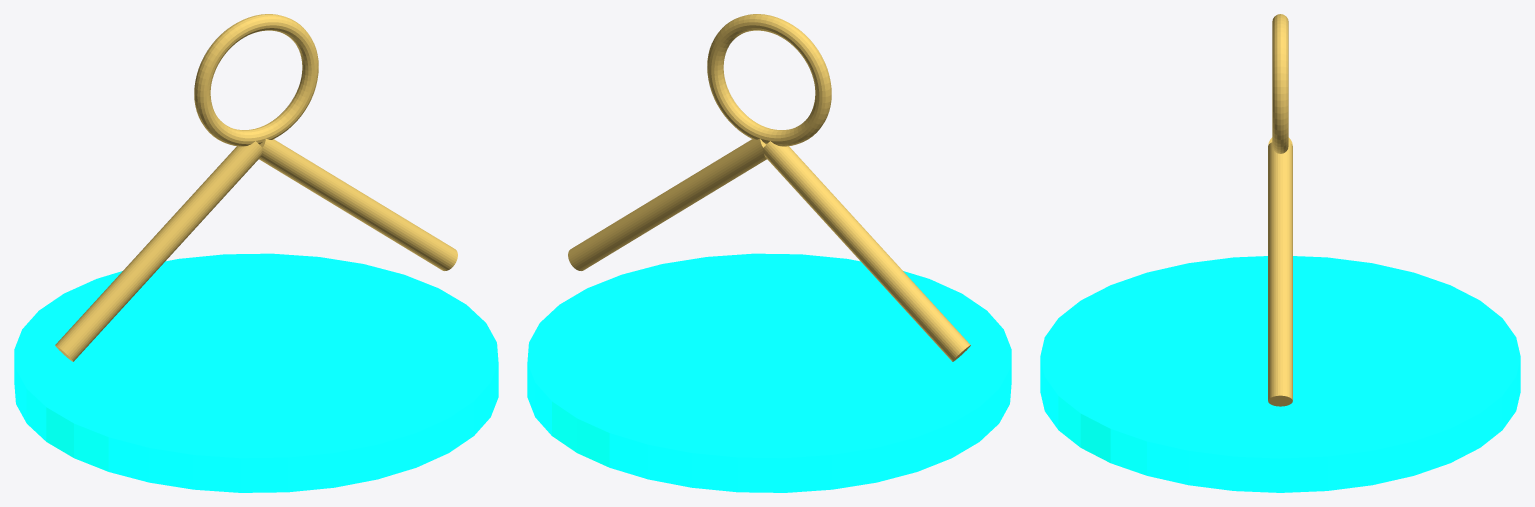
File: fashion_hanger.glb
The picture shows the model from 3 angles, left to right: view 1: azimuth 30°, elevation 25°; view 2: azimuth 150°, elevation 25°; view 3: azimuth 270°, elevation 25°; orthographic projection.
Visible parts, largest first — view 1: 06_17_Popular_Fashion_Hanger_ROOT_base, 06_17_Popular_Fashion_Hanger_part_01, 06_17_Popular_Fashion_Hanger_part_03, 06_17_Popular_Fashion_Hanger_part_02; view 2: 06_17_Popular_Fashion_Hanger_ROOT_base, 06_17_Popular_Fashion_Hanger_part_01, 06_17_Popular_Fashion_Hanger_part_03, 06_17_Popular_Fashion_Hanger_part_02; view 3: 06_17_Popular_Fashion_Hanger_ROOT_base, 06_17_Popular_Fashion_Hanger_part_02, 06_17_Popular_Fashion_Hanger_part_03.
Boxes of the visible parts, x1,y1,x2,y2 form: 06_17_Popular_Fashion_Hanger_ROOT_base: (14,253,498,492); 06_17_Popular_Fashion_Hanger_part_01: (55,141,262,361); 06_17_Popular_Fashion_Hanger_part_03: (194,14,318,146); 06_17_Popular_Fashion_Hanger_part_02: (259,138,457,270); 06_17_Popular_Fashion_Hanger_ROOT_base: (527,253,1011,492); 06_17_Popular_Fashion_Hanger_part_01: (763,141,970,361); 06_17_Popular_Fashion_Hanger_part_03: (707,14,831,146); 06_17_Popular_Fashion_Hanger_part_02: (568,138,766,270); 06_17_Popular_Fashion_Hanger_ROOT_base: (1040,256,1520,492); 06_17_Popular_Fashion_Hanger_part_02: (1268,142,1292,406); 06_17_Popular_Fashion_Hanger_part_03: (1272,14,1288,153).
Size of the model in its own units: 0.76 by 0.6471 by 0.76.
